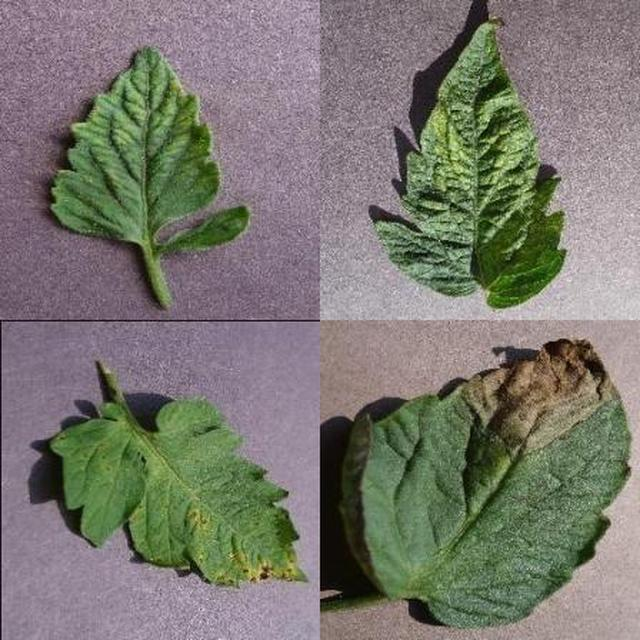Mosaic Virus Leaf: (212, 212, 640, 640)
